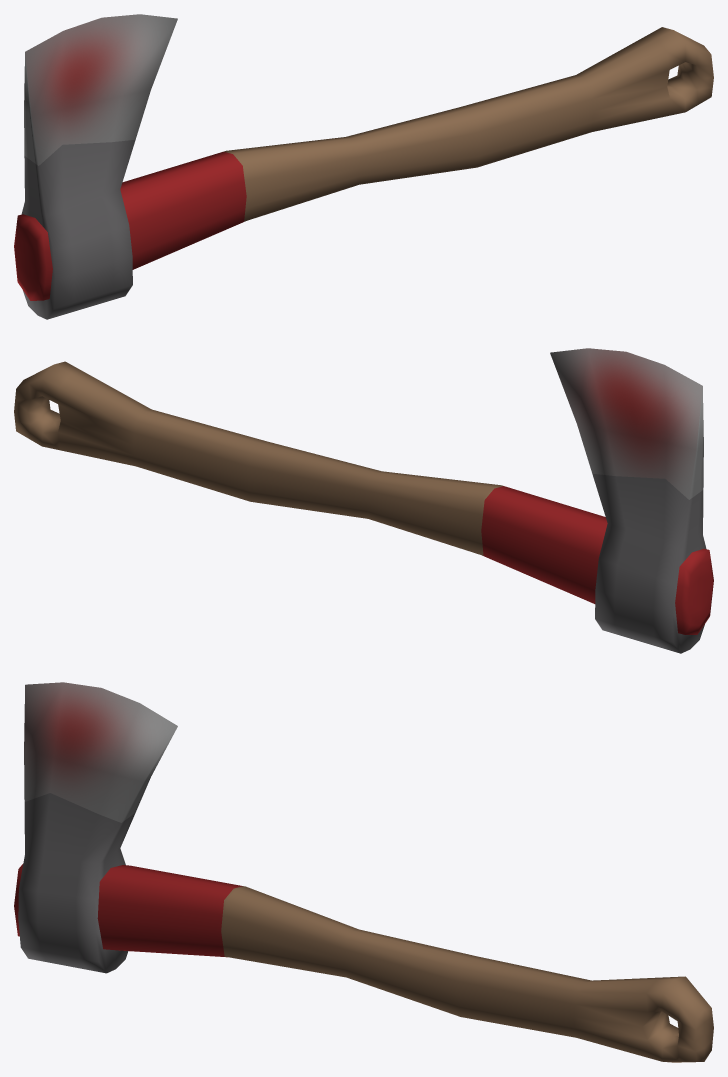
The model's file is Axe2.fbx.
3 views of the same model, one above another, from view 1: azimuth 30°, elevation 25°; view 2: azimuth 150°, elevation 25°; view 3: azimuth 330°, elevation 25° (orthographic).
Visible parts, largest first — view 1: AxeHandle, AxeHead; view 2: AxeHandle, AxeHead; view 3: AxeHandle, AxeHead.
Part boxes in pixels (x1,y1,x2,y2): AxeHandle: [14, 27, 713, 300]; AxeHead: [21, 14, 177, 319]; AxeHandle: [14, 361, 713, 634]; AxeHead: [550, 348, 706, 653]; AxeHandle: [14, 864, 713, 1062]; AxeHead: [18, 682, 177, 973].
Size of the model in its own units: 529 by 210 by 50.01.
